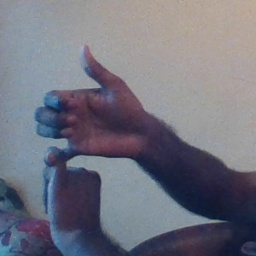S: (29, 42, 156, 222)
